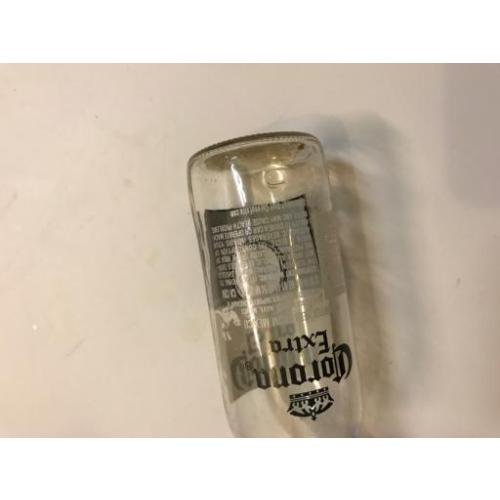glass: (188, 134, 366, 437)
